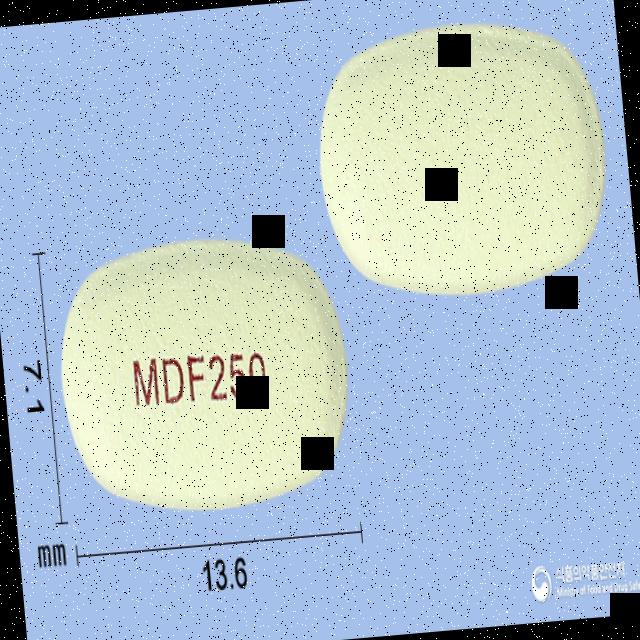Clarid - 250mg: (46, 224, 362, 528)
